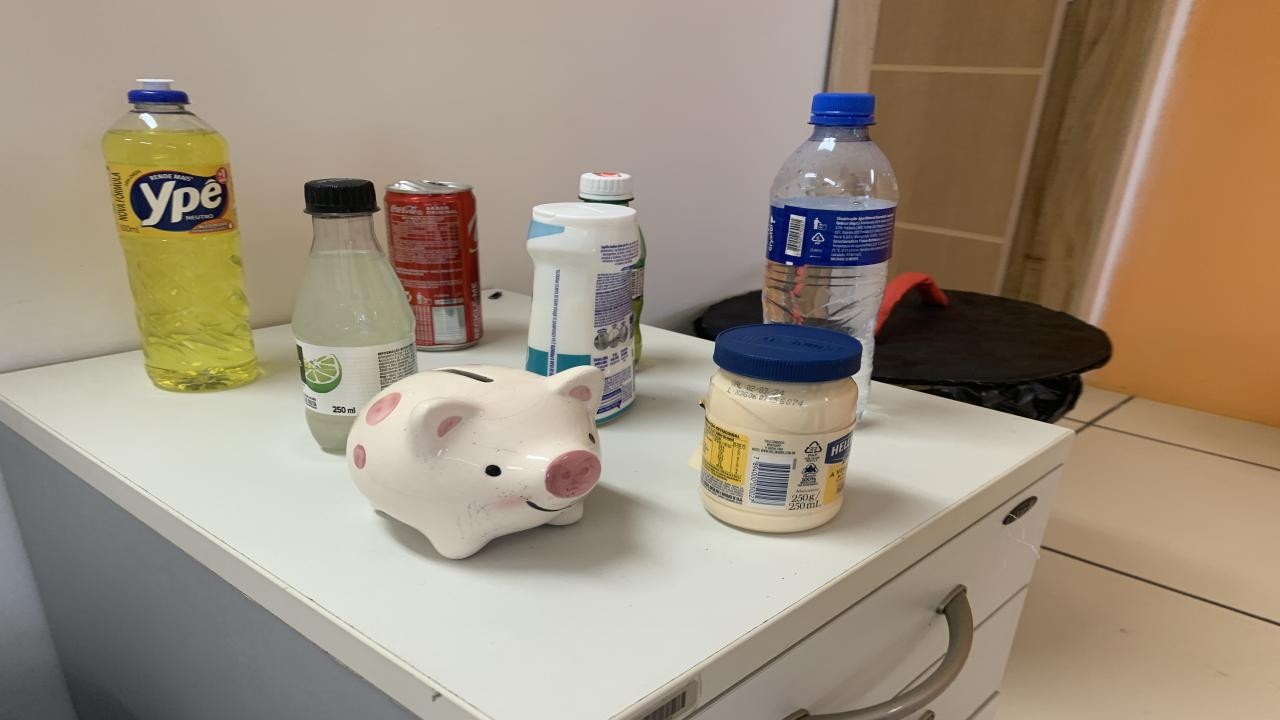Cleaner-Cleanup_Items: (525, 201, 645, 424)
Coke-Drinks: (385, 180, 482, 351)
Detergent-Cleanup_Items: (102, 79, 258, 392)
Guarana-Drinks: (630, 231, 648, 364), (578, 172, 632, 206)
Mayonnaise-Pantry_Items: (690, 324, 862, 532)
Pig_Safe-Miscellaneous: (348, 366, 602, 559)
Soda-Drinks: (292, 178, 418, 454)
Water_Bottle-Drinks: (762, 94, 898, 414)
